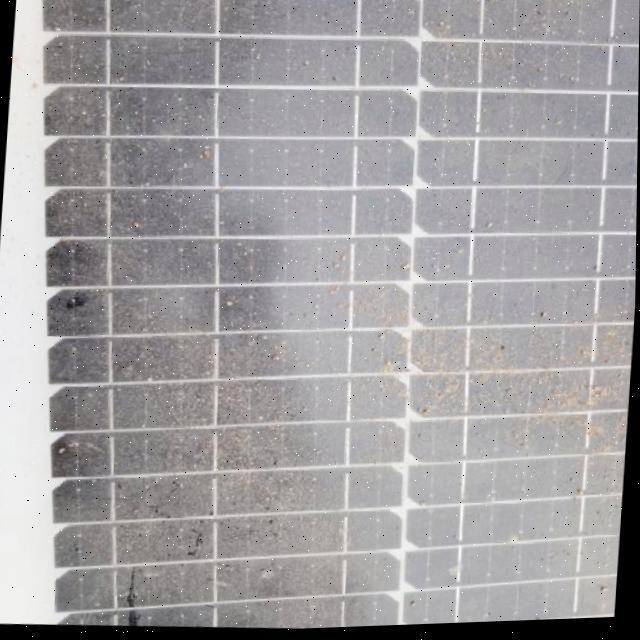Surface Contaminant: (21, 0, 640, 631)
